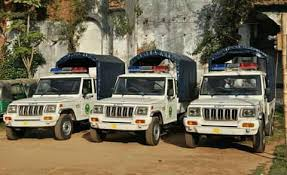policecar: (2, 52, 125, 141), (89, 49, 199, 147), (183, 44, 275, 155)
